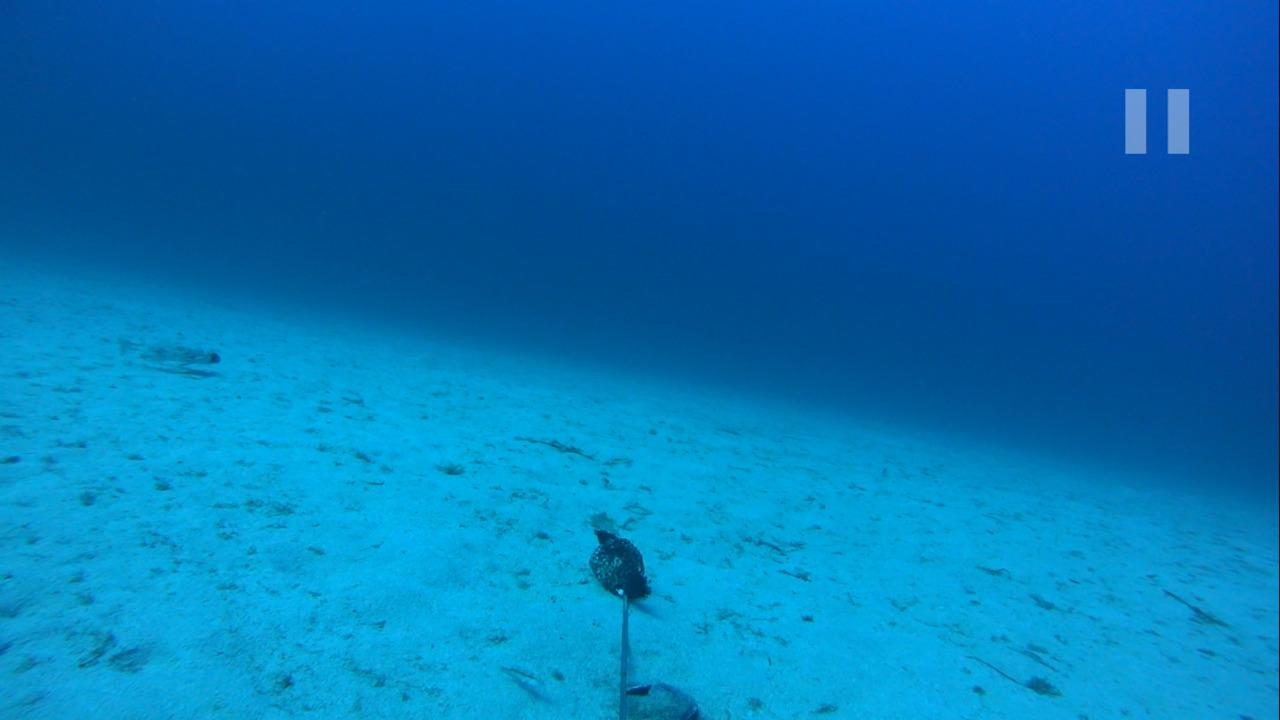dactylopterus: (101, 329, 223, 375)
